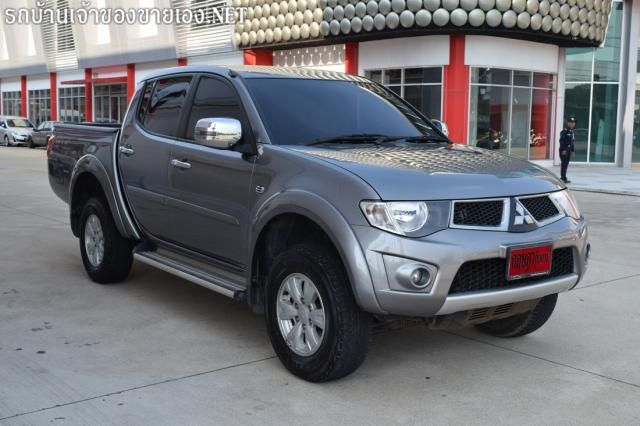pickup: (44, 65, 594, 385)
